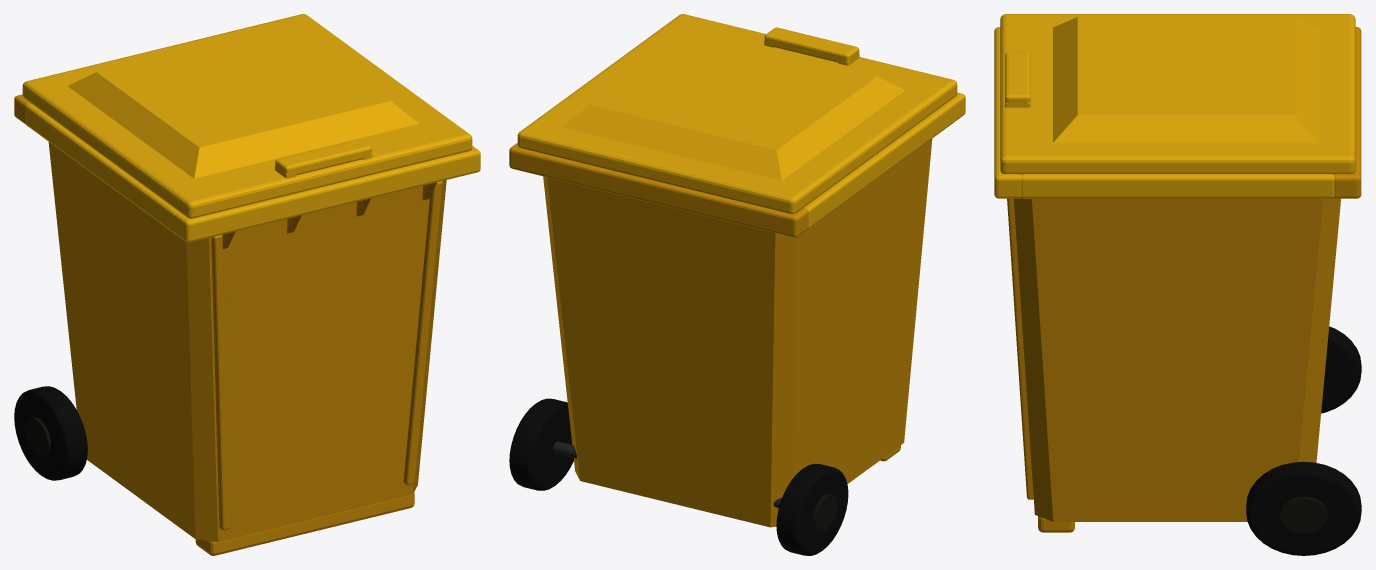
Rendered from asset.fbx.
The picture shows the model from 3 angles, left to right: view 1: azimuth 30°, elevation 25°; view 2: azimuth 150°, elevation 25°; view 3: azimuth 270°, elevation 25°; orthographic projection. The views are drawn at different scales.
Visible parts, largest first — view 1: my_asset_hollow_tapered_body, my_asset_lid_raised_center, my_asset_removable_lid_plate, my_asset_front_top_rim, my_asset_left_wheel, my_asset_left_top_rim, my_asset_front_right_vertical_rib, my_asset_front_left_vertical_rib, my_asset_front_bottom_contact, my_asset_lid_front_grip, my_asset_left_wheel_hub, my_asset_front_rim_gussets; view 2: my_asset_hollow_tapered_body, my_asset_lid_raised_center, my_asset_removable_lid_plate, my_asset_rear_top_rim, my_asset_left_wheel, my_asset_right_wheel, my_asset_left_top_rim, my_asset_lid_front_grip, my_asset_left_wheel_hub; view 3: my_asset_hollow_tapered_body, my_asset_lid_raised_center, my_asset_removable_lid_plate, my_asset_right_top_rim, my_asset_right_wheel, my_asset_left_wheel, my_asset_front_right_vertical_rib, my_asset_rear_top_rim, my_asset_front_top_rim, my_asset_right_wheel_hub, my_asset_lid_front_grip.
Boxes of the visible parts, x1=… form: my_asset_hollow_tapered_body: x1=48, y1=142, x2=446, y2=542; my_asset_lid_raised_center: x1=68, y1=25, x2=419, y2=178; my_asset_removable_lid_plate: x1=22, y1=14, x2=472, y2=218; my_asset_front_top_rim: x1=174, y1=146, x2=480, y2=242; my_asset_left_wheel: x1=14, y1=386, x2=87, y2=480; my_asset_left_top_rim: x1=25, y1=103, x2=179, y2=233; my_asset_front_right_vertical_rib: x1=403, y1=181, x2=442, y2=485; my_asset_front_left_vertical_rib: x1=211, y1=235, x2=230, y2=530; my_asset_front_bottom_contact: x1=195, y1=492, x2=414, y2=555; my_asset_lid_front_grip: x1=275, y1=139, x2=371, y2=175; my_asset_left_wheel_hub: x1=25, y1=417, x2=51, y2=455; my_asset_front_rim_gussets: x1=222, y1=182, x2=436, y2=248; my_asset_hollow_tapered_body: x1=543, y1=139, x2=932, y2=527; my_asset_lid_raised_center: x1=562, y1=31, x2=905, y2=180; my_asset_removable_lid_plate: x1=517, y1=14, x2=957, y2=213; my_asset_rear_top_rim: x1=509, y1=143, x2=808, y2=237; my_asset_left_wheel: x1=776, y1=463, x2=848, y2=555; my_asset_right_wheel: x1=509, y1=398, x2=573, y2=490; my_asset_left_top_rim: x1=804, y1=101, x2=954, y2=228; my_asset_lid_front_grip: x1=764, y1=27, x2=859, y2=63; my_asset_left_wheel_hub: x1=812, y1=494, x2=837, y2=531; my_asset_hollow_tapered_body: x1=1014, y1=198, x2=1340, y2=521; my_asset_lid_raised_center: x1=1053, y1=17, x2=1319, y2=143; my_asset_removable_lid_plate: x1=1000, y1=14, x2=1355, y2=174; my_asset_right_top_rim: x1=1021, y1=174, x2=1334, y2=198; my_asset_right_wheel: x1=1246, y1=461, x2=1361, y2=555; my_asset_left_wheel: x1=1321, y1=326, x2=1361, y2=413; my_asset_front_right_vertical_rib: x1=1007, y1=198, x2=1033, y2=499; my_asset_rear_top_rim: x1=1334, y1=27, x2=1361, y2=198; my_asset_front_top_rim: x1=994, y1=27, x2=1021, y2=198; my_asset_right_wheel_hub: x1=1279, y1=496, x2=1327, y2=533; my_asset_lid_front_grip: x1=1005, y1=52, x2=1030, y2=105.
Bounding box in the file's own units: 0.32 × 0.4 × 0.32.
